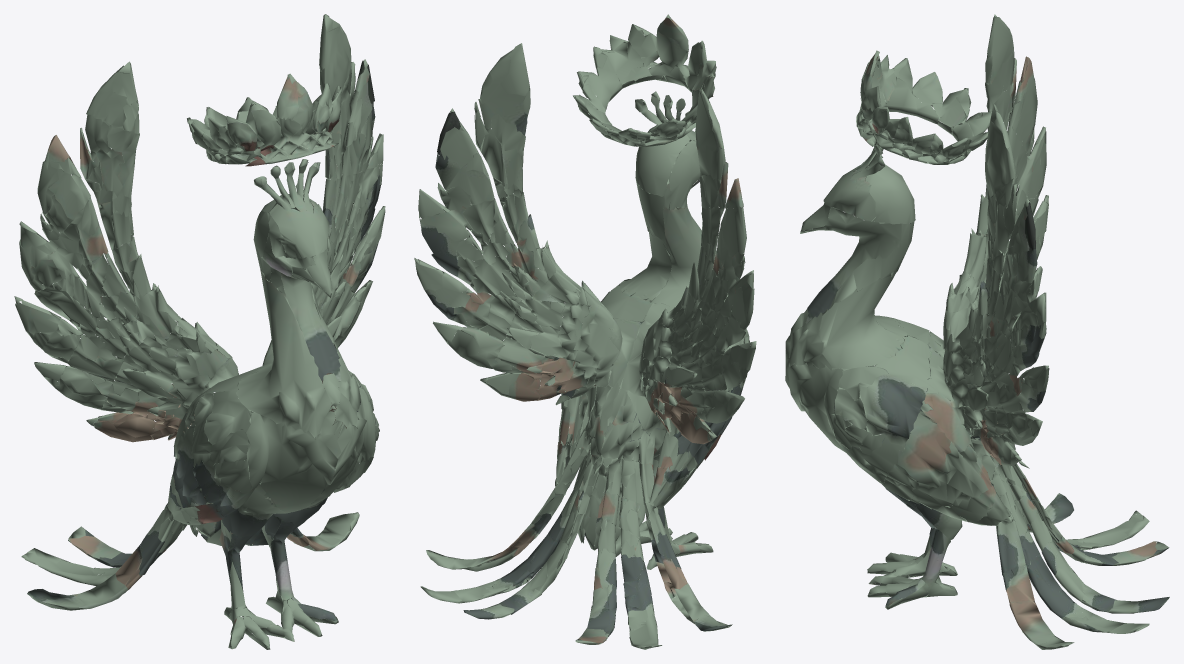
3 renders of one model, left to right at view 1: azimuth 30°, elevation 25°; view 2: azimuth 150°, elevation 25°; view 3: azimuth 270°, elevation 25°, orthographic. The views are drawn at different scales.
Visible parts, largest first — view 1: Mesh_0; view 2: Mesh_0; view 3: Mesh_0.
Part boxes in pixels (x1,y1,x2,y2): Mesh_0: (14,14,385,649); Mesh_0: (414,14,756,649); Mesh_0: (785,14,1169,649).
Bounding box in the file's own units: 1.3 × 1.9 × 1.24.
1 material, 1 textured.
